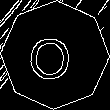O_N: (33, 29, 77, 81)
